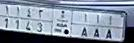1: (3, 5, 10, 29), (15, 6, 20, 30)
3: (37, 9, 44, 33)
4: (26, 8, 31, 30)
A: (104, 14, 113, 40), (81, 13, 89, 37), (94, 14, 101, 38)
